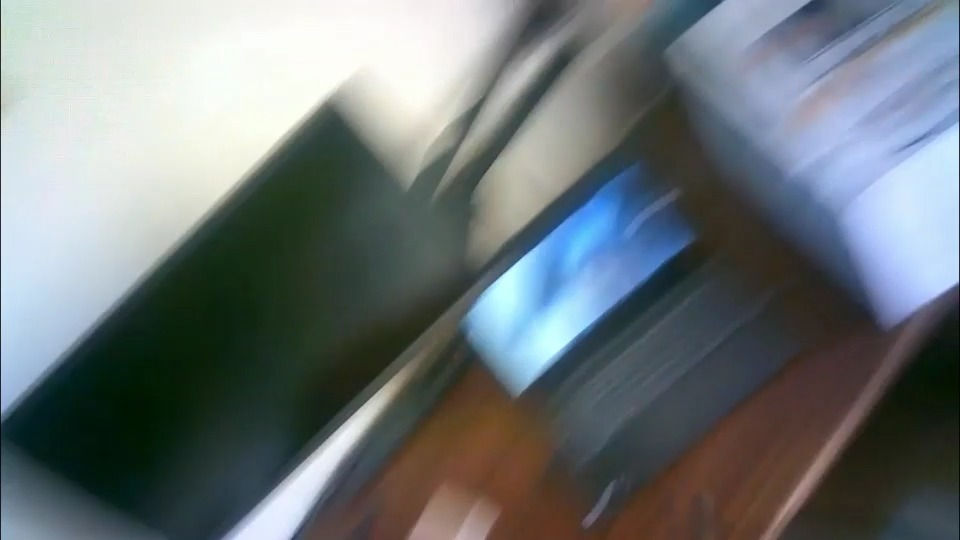wheat_flour_blue_label: (668, 4, 960, 327)
